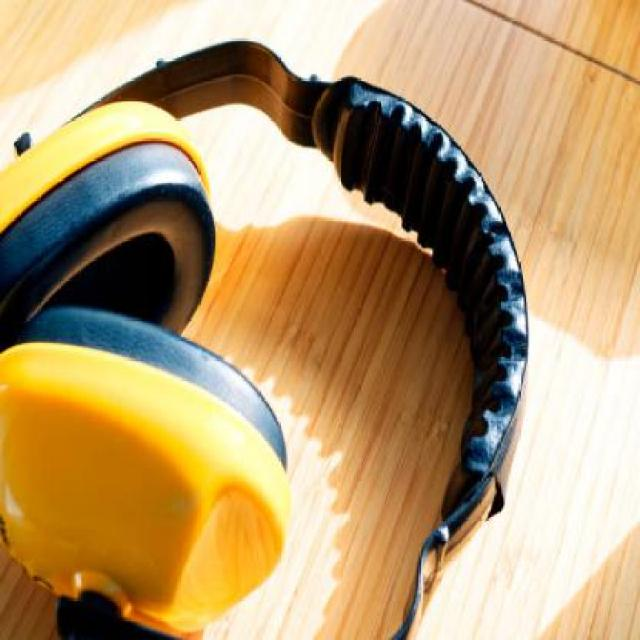Ear-protection: (3, 60, 510, 617)
